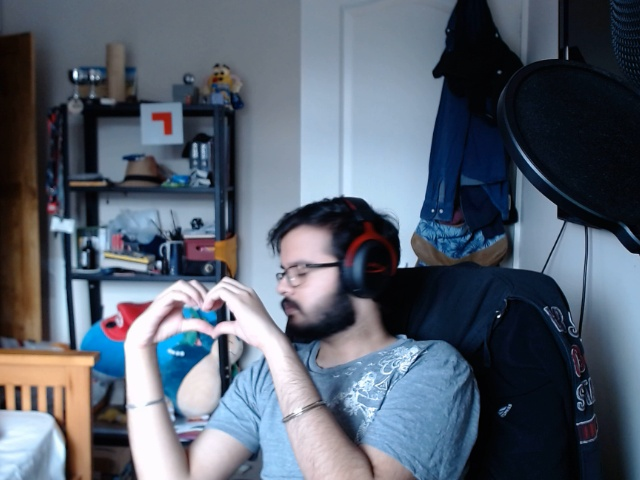Heart: (135, 270, 279, 342)
